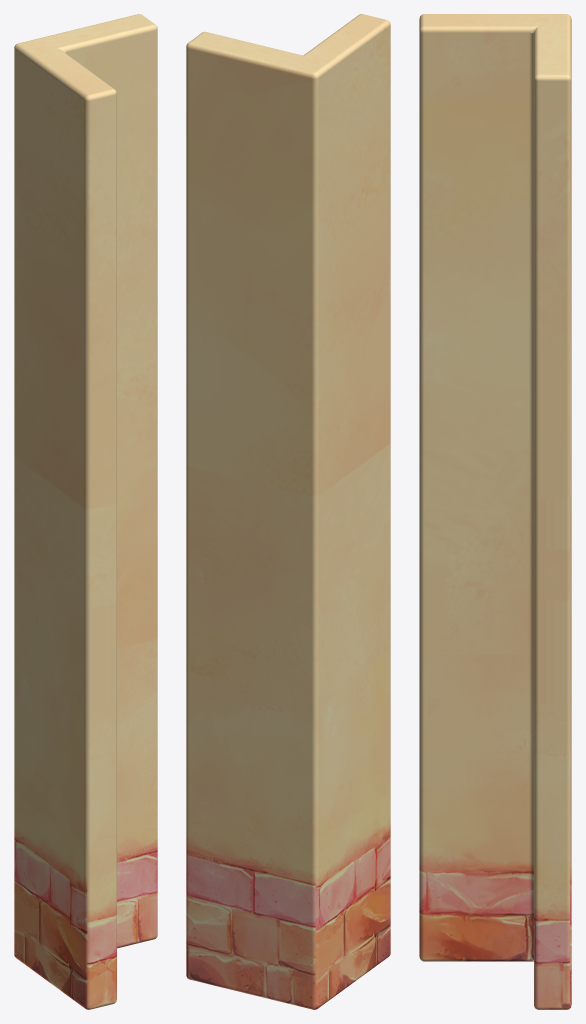
The model's file is ParedeEsquina.fbx.
The picture shows the model from 3 angles, left to right: view 1: azimuth 30°, elevation 25°; view 2: azimuth 150°, elevation 25°; view 3: azimuth 270°, elevation 25°; orthographic projection. The views are drawn at different scales.
Parts seen in each view (by area): view 1: Pared_corner_izq; view 2: Pared_corner_izq; view 3: Pared_corner_izq.
Boxes of the visible parts, left/top/right/bottom form: Pared_corner_izq: left=14, top=14, right=157, bottom=1009; Pared_corner_izq: left=186, top=14, right=390, bottom=1009; Pared_corner_izq: left=419, top=14, right=571, bottom=1009.
Bounding box in the file's own units: 401 × 2727 × 402.
